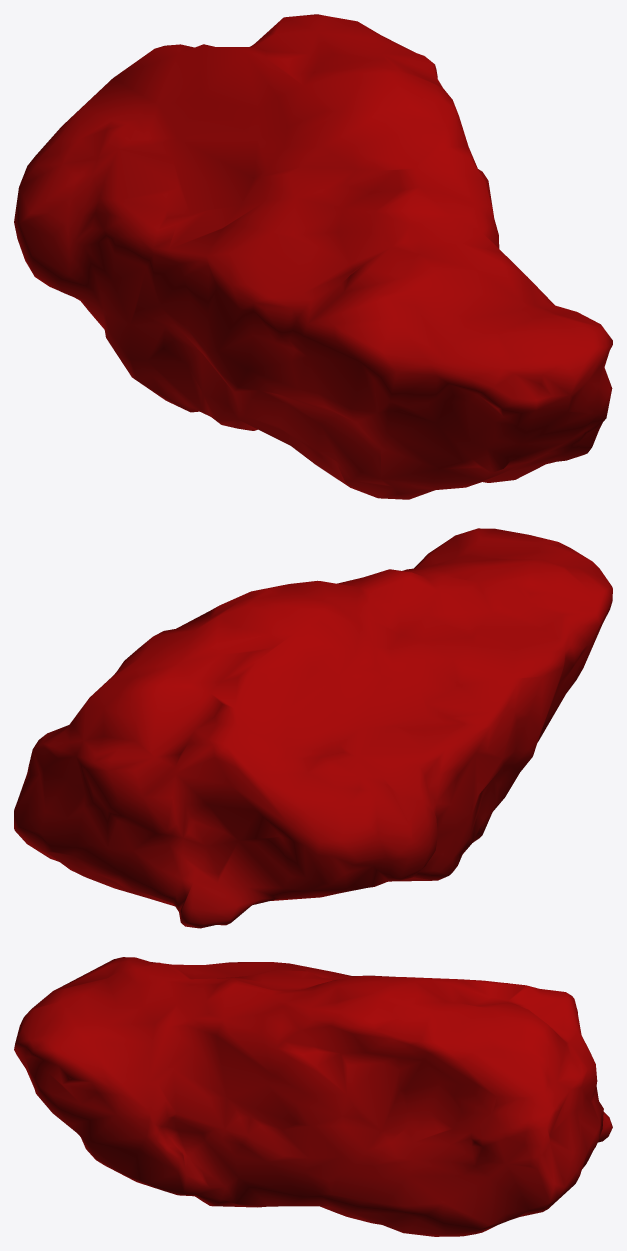
The model's file is mossrock_a_05.glb.
3 views of the same model, one above another, from view 1: azimuth 30°, elevation 25°; view 2: azimuth 150°, elevation 25°; view 3: azimuth 270°, elevation 25° (orthographic). The views are drawn at different scales.
Visible parts, largest first — view 1: LOD0; view 2: LOD0; view 3: LOD0.
Part boxes in pixels (x1=…): LOD0: x1=14, y1=14, x2=612, y2=499; LOD0: x1=14, y1=528, x2=612, y2=928; LOD0: x1=14, y1=957, x2=612, y2=1236.
Size of what is drawn, in the model's own units: 1.81 by 1.2 by 3.
